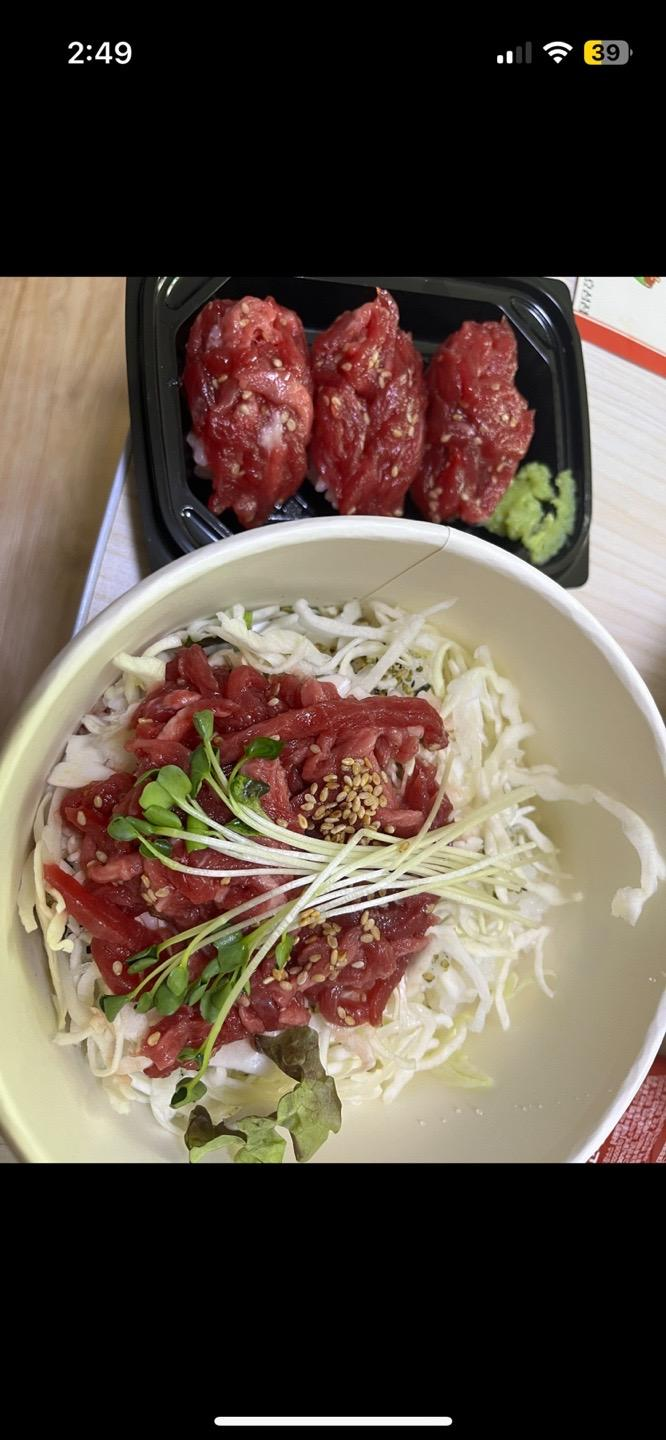Lunch Box: (0, 517, 665, 1162), (126, 277, 591, 587)
